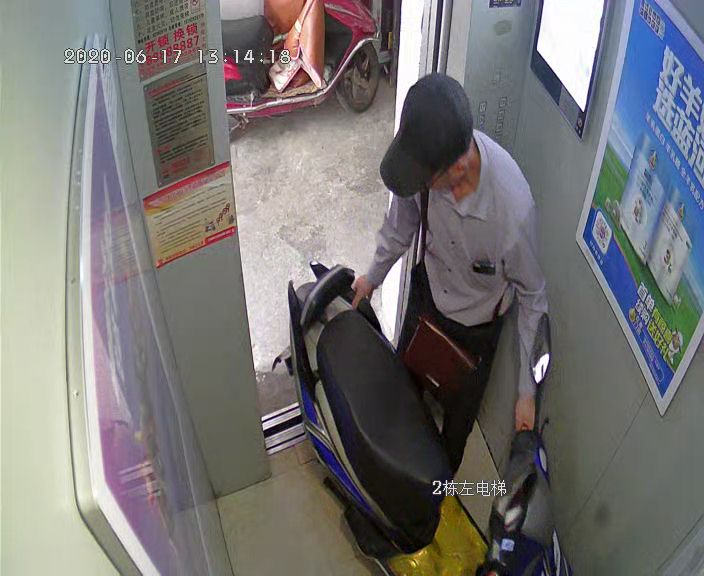Electric-bicycle: (284, 259, 573, 575), (222, 1, 381, 129)
